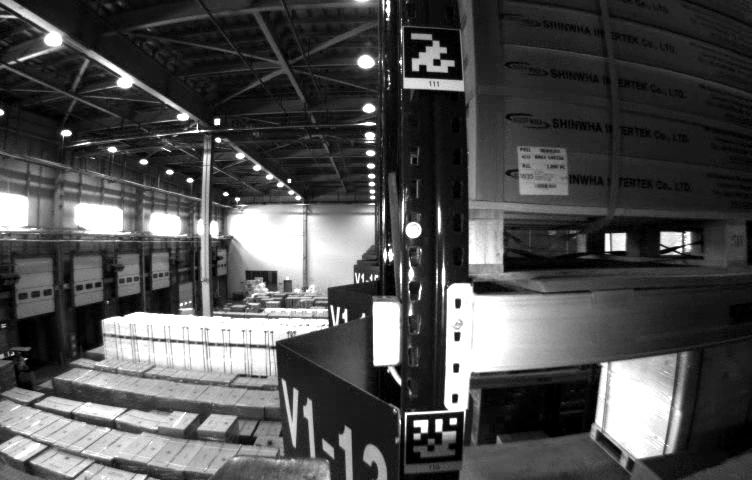True Barcode: (516, 144, 569, 196)
